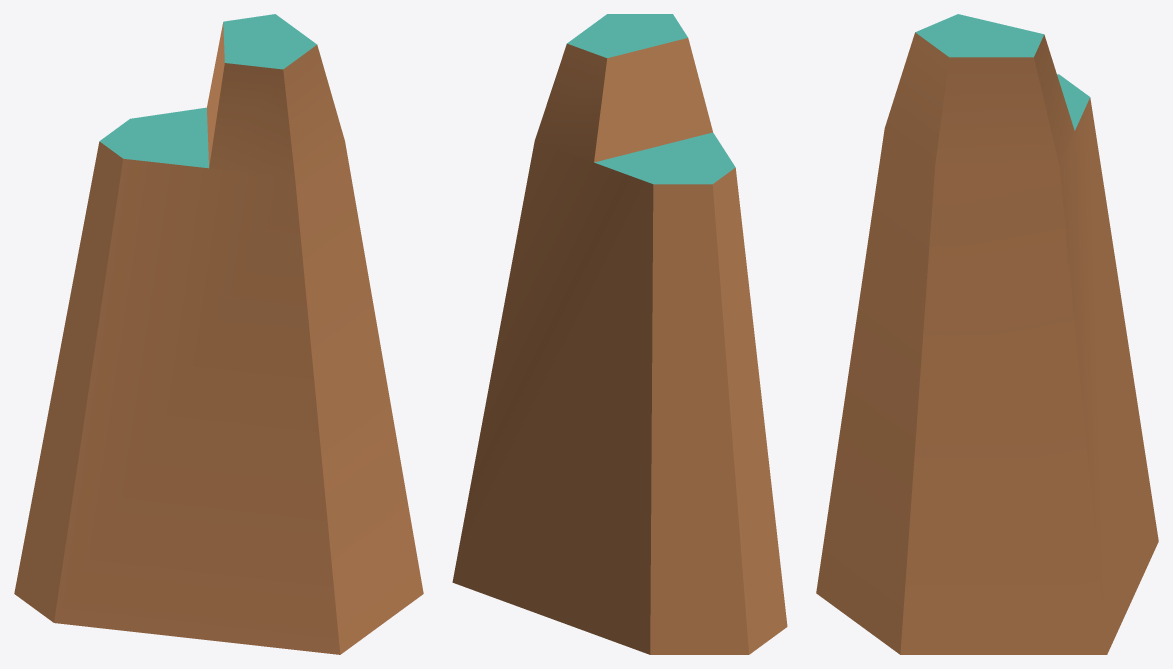
The model's file is rock_tall3.obj.
3 views of the same model, side by side, from view 1: azimuth 30°, elevation 25°; view 2: azimuth 150°, elevation 25°; view 3: azimuth 270°, elevation 25° (orthographic). The views are drawn at different scales.
Parts seen in each view (by area): view 1: rock_tall3; view 2: rock_tall3; view 3: rock_tall3.
Part boxes in pixels (x1,y1,x2,y2): rock_tall3: [14, 14, 423, 654]; rock_tall3: [452, 14, 787, 654]; rock_tall3: [816, 14, 1158, 654].
Bounding box in the file's own units: 4.56 × 7.83 × 4.37.
